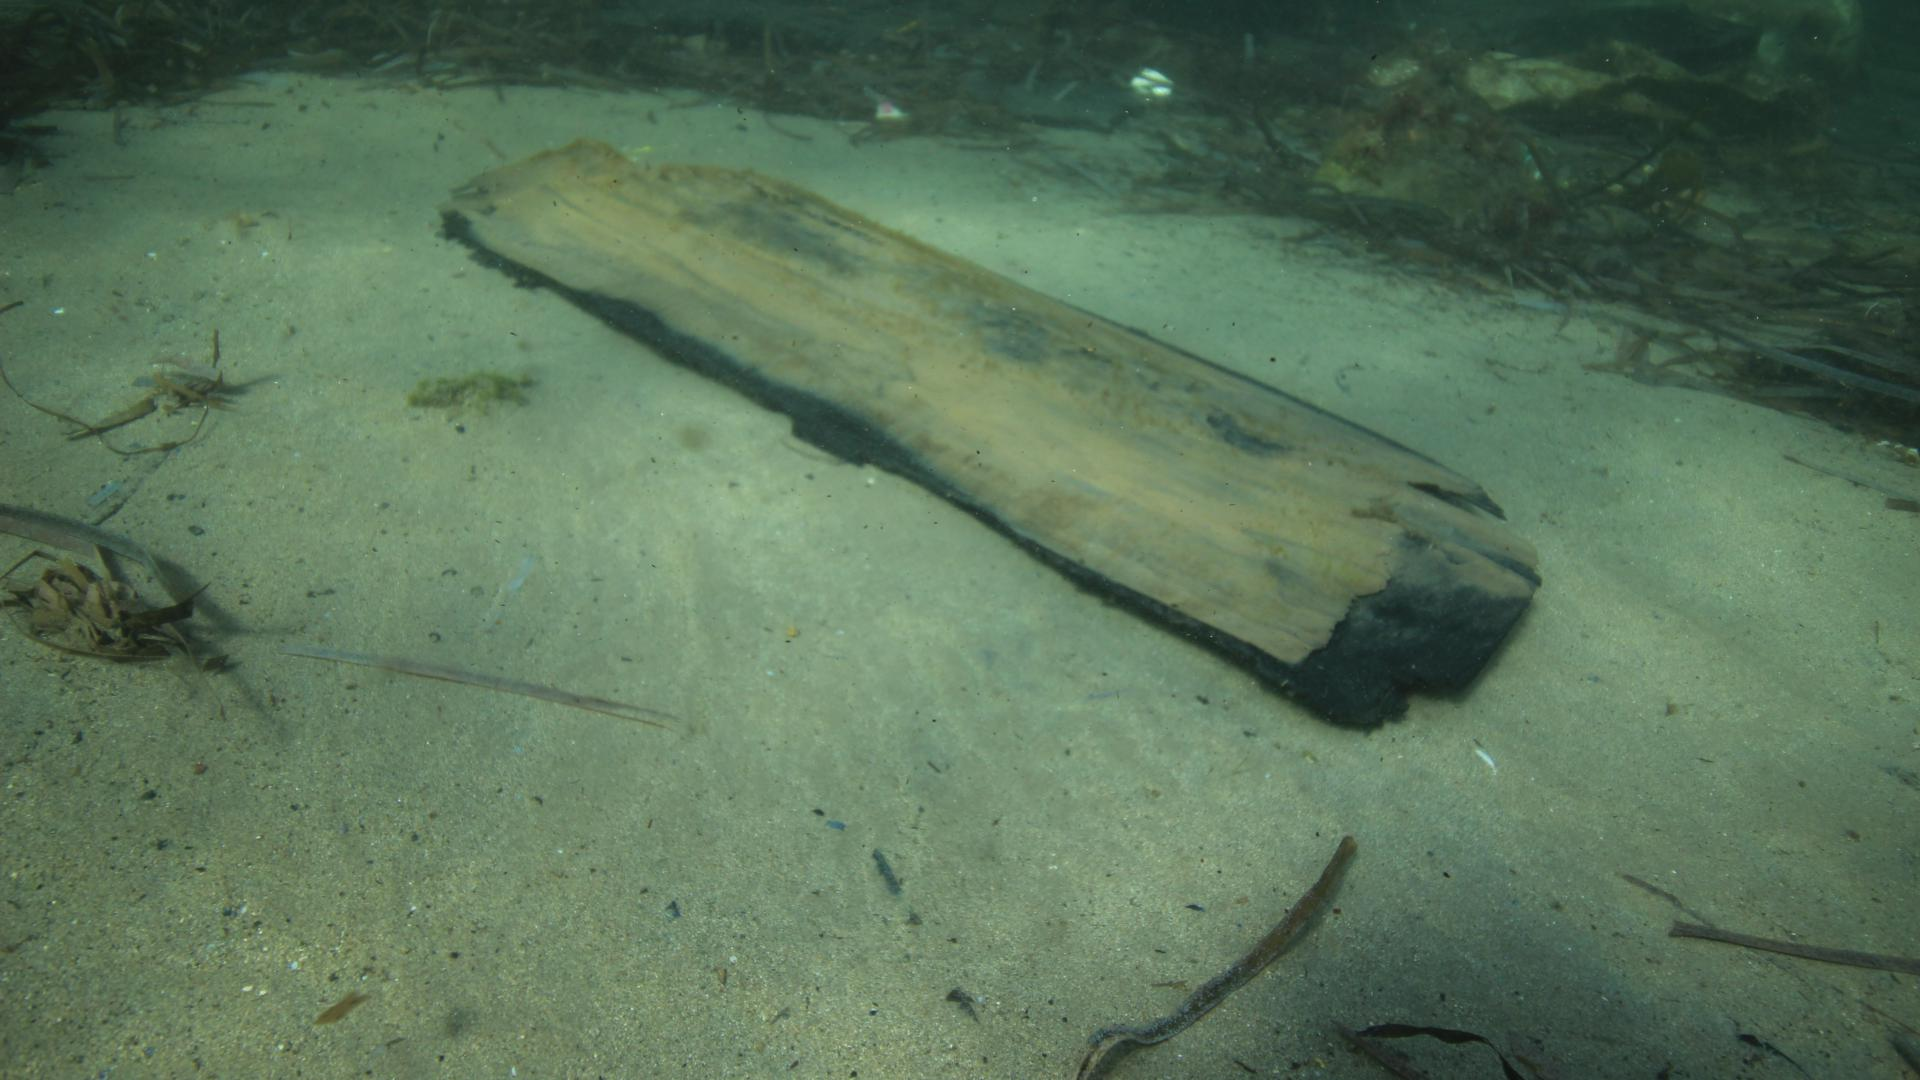wood: (440, 135, 1542, 731)
